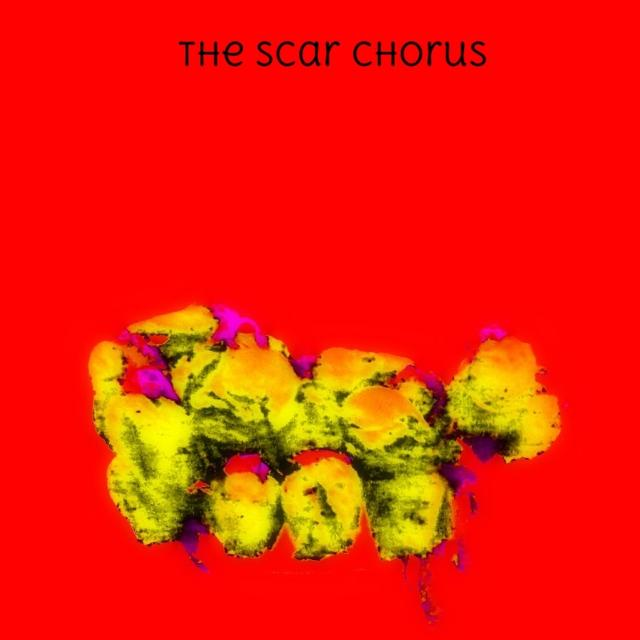Flower: (84, 304, 568, 620), (282, 452, 368, 556)
